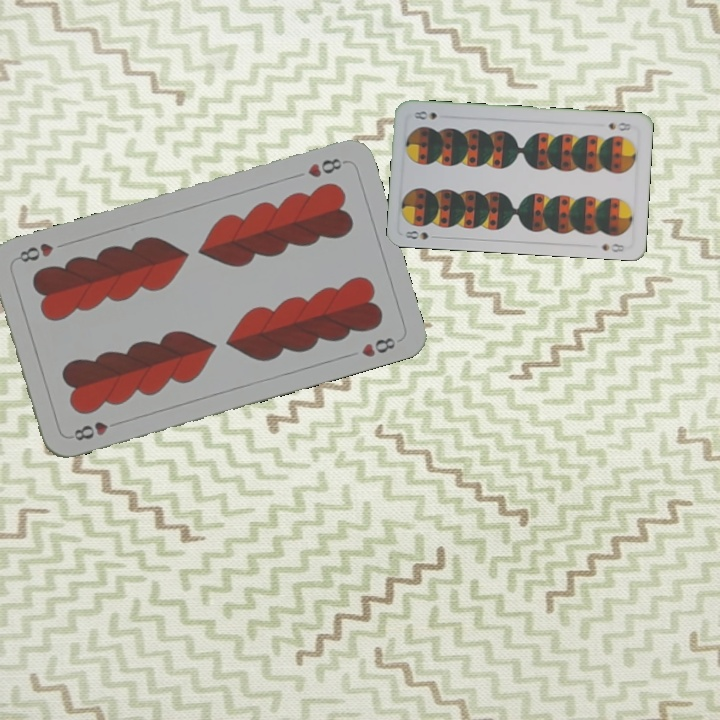H8: (69, 417, 124, 443), (303, 154, 349, 181)
S8: (401, 227, 442, 242), (604, 118, 634, 134)
